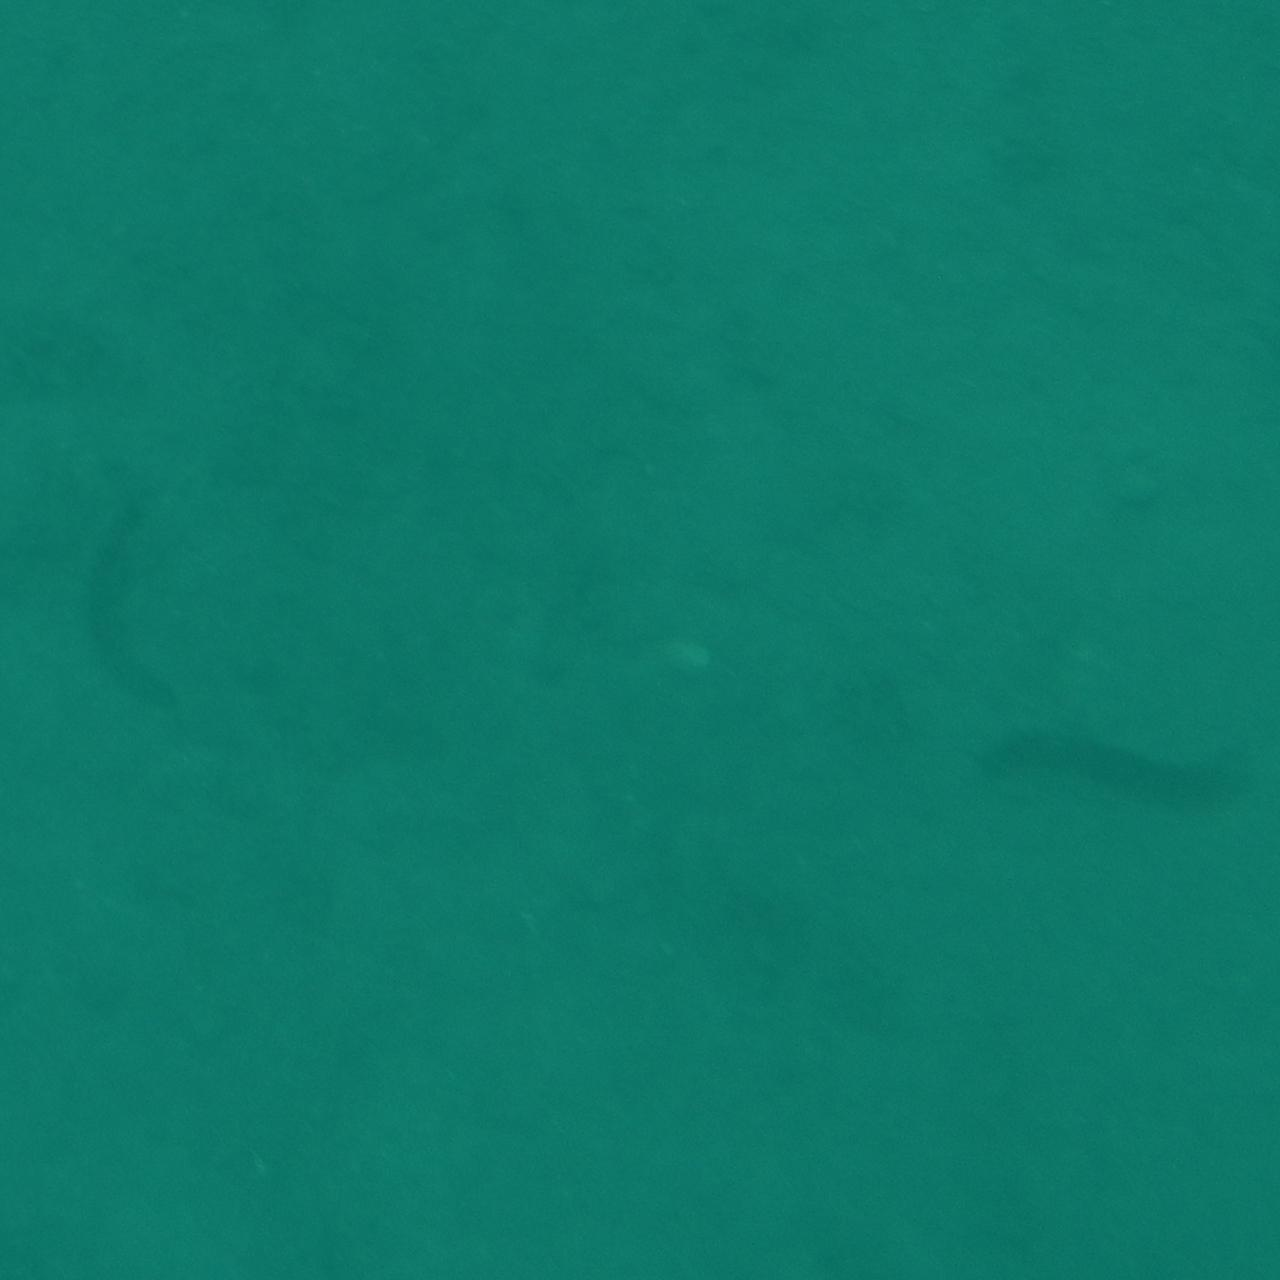Holothuria tubulosa: (76, 464, 236, 756), (978, 694, 1269, 840)
